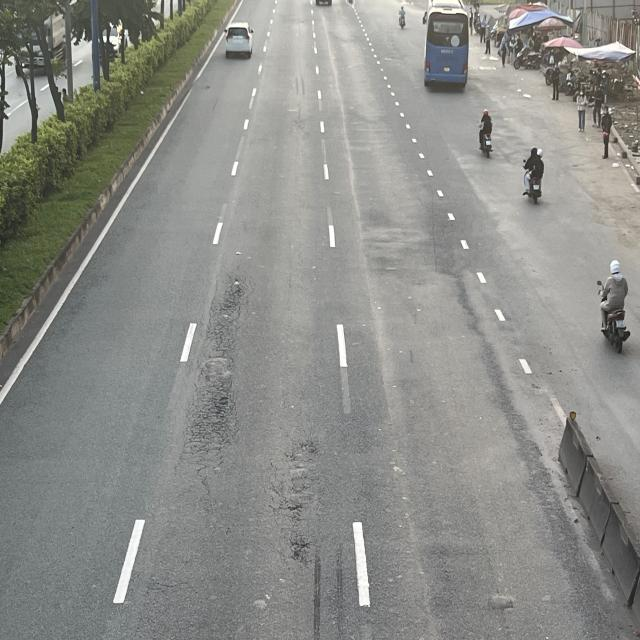car: (226, 22, 255, 59)
coach: (424, 0, 469, 87)
